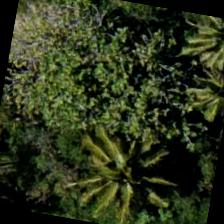Kelapa_Sawit: (120, 47, 223, 152), (86, 0, 190, 91), (63, 133, 168, 223), (161, 33, 223, 134), (0, 81, 52, 179), (167, 10, 223, 87), (168, 10, 223, 88)
